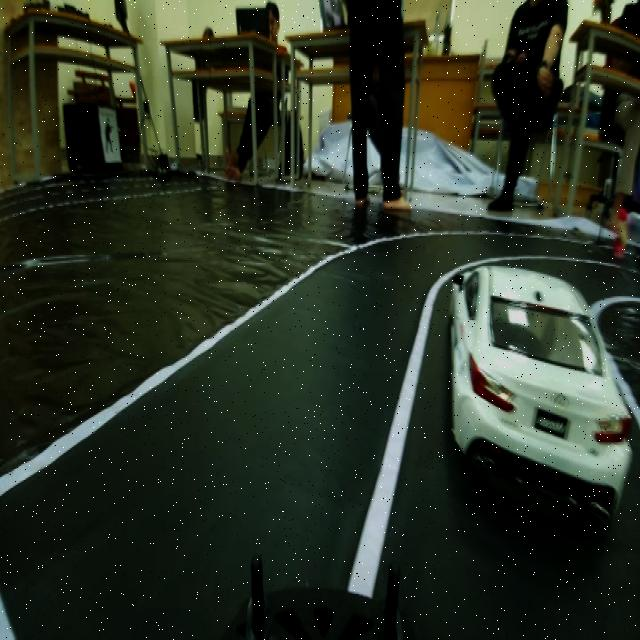car: (449, 246, 626, 537)
